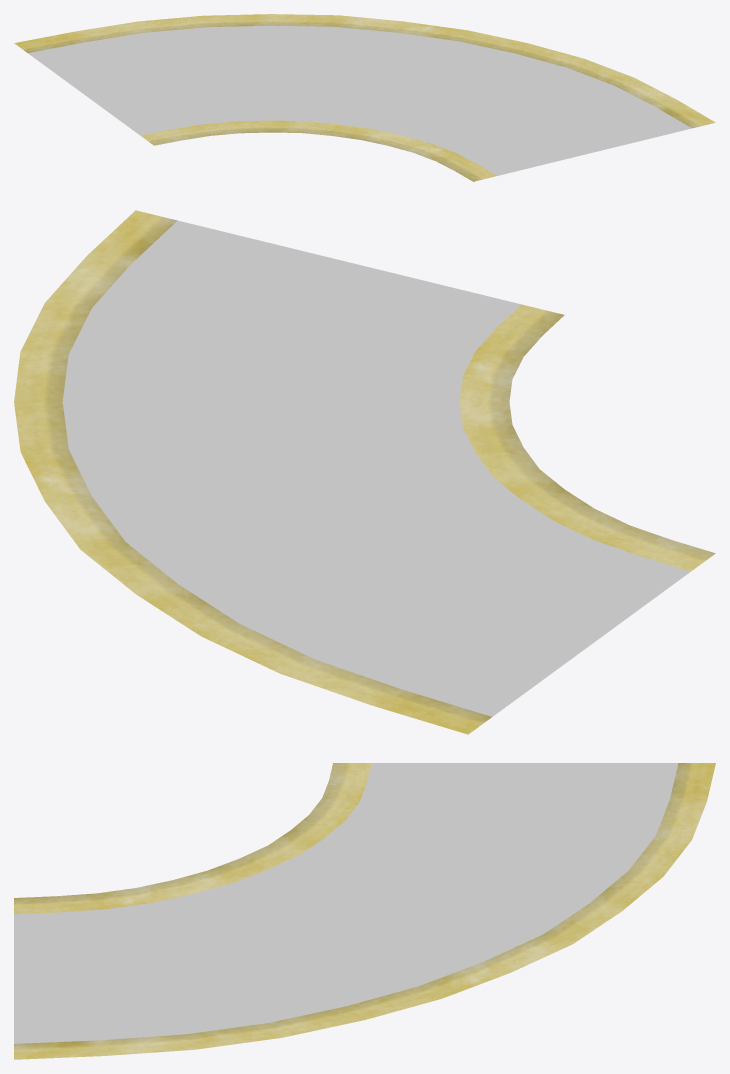
The model's file is Cnt_Env_FloorLineCorner.fbx.
3 views of the same model, one above another, from view 1: azimuth 30°, elevation 25°; view 2: azimuth 150°, elevation 25°; view 3: azimuth 270°, elevation 25° (orthographic). The views are drawn at different scales.
Visible parts, largest first — view 1: Cnt_Env_FloorLineCorner; view 2: Cnt_Env_FloorLineCorner; view 3: Cnt_Env_FloorLineCorner.
Part boxes in pixels (box(x1,y1,x2,y2)): Cnt_Env_FloorLineCorner: box(14, 14, 715, 181); Cnt_Env_FloorLineCorner: box(14, 210, 715, 734); Cnt_Env_FloorLineCorner: box(14, 763, 715, 1059).
Size of the model in its own units: 68.75 by 0 by 68.75.
